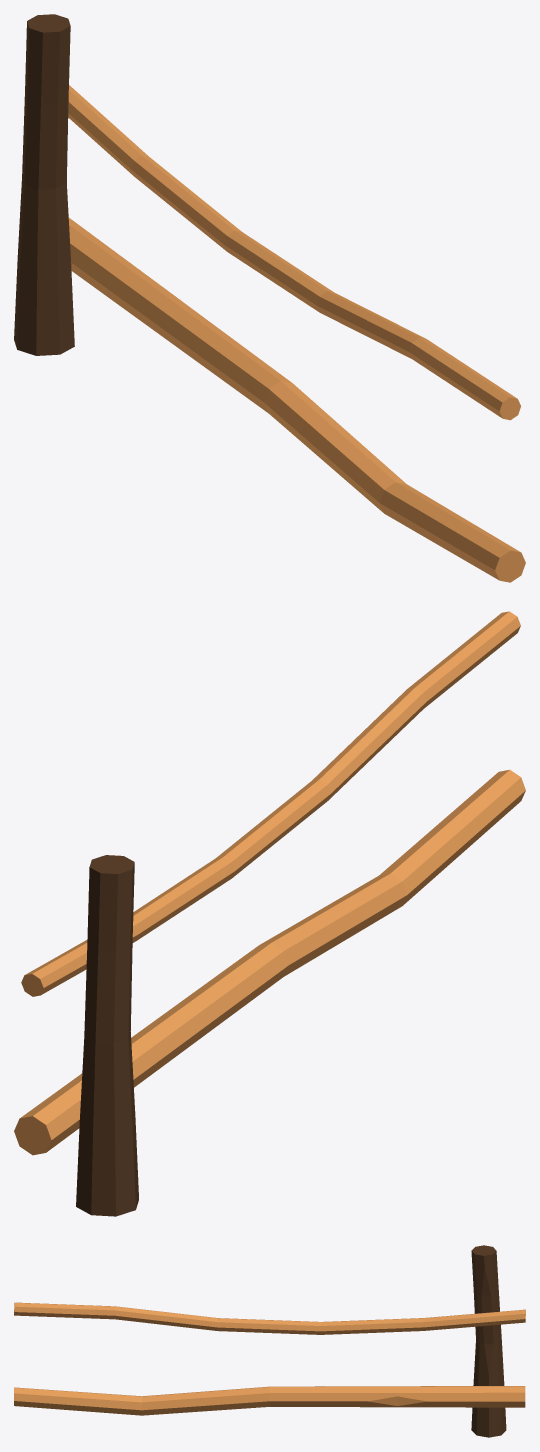
Rendered from Fence_6.fbx.
3 renders of one model, top to bottom at view 1: azimuth 30°, elevation 25°; view 2: azimuth 150°, elevation 25°; view 3: azimuth 270°, elevation 25°, orthographic. The views are drawn at different scales.
Visible parts, largest first — view 1: fence_5; view 2: fence_5; view 3: fence_5.
Part boxes in pixels (bbox=[...]): fence_5: bbox=[14, 14, 525, 582]; fence_5: bbox=[14, 611, 525, 1216]; fence_5: bbox=[14, 1245, 525, 1437].
Bounding box in the file's own units: 50.13 × 183 × 472.
